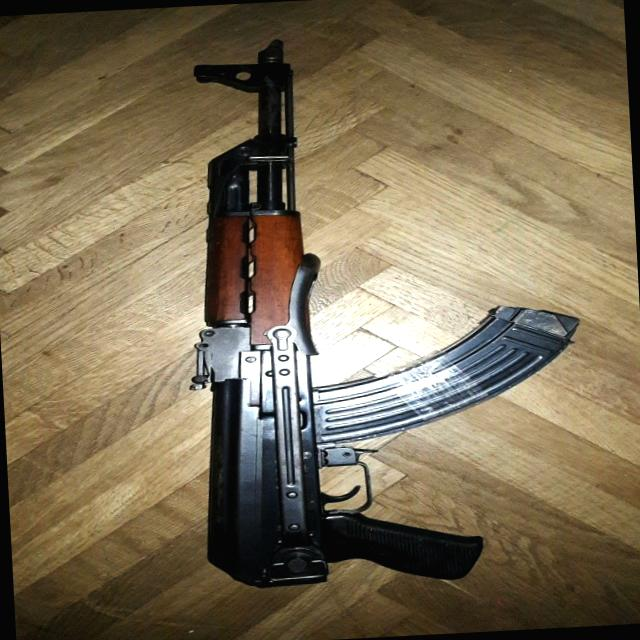ak: (145, 12, 598, 606)
